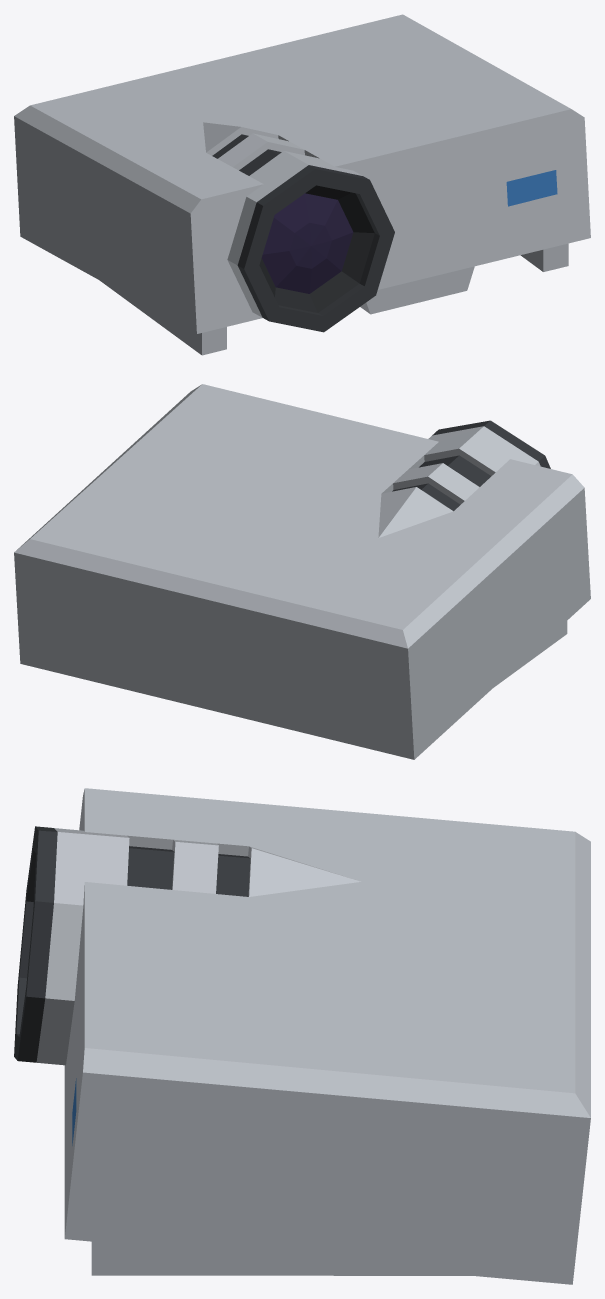
The model's file is SM_Prop_Projector_02.glb.
The picture shows the model from 3 angles, top to bottom: view 1: azimuth 30°, elevation 25°; view 2: azimuth 150°, elevation 25°; view 3: azimuth 270°, elevation 25°; orthographic projection. The views are drawn at different scales.
Visible parts, largest first — view 1: SM_Prop_Projector_02; view 2: SM_Prop_Projector_02; view 3: SM_Prop_Projector_02.
Part boxes in pixels (x1,y1,x2,y2): SM_Prop_Projector_02: [14, 14, 590, 355]; SM_Prop_Projector_02: [14, 384, 590, 759]; SM_Prop_Projector_02: [14, 788, 590, 1284].
Bounding box in the file's own units: 0.2768 × 0.1187 × 0.2441.
1 material, 1 textured.
